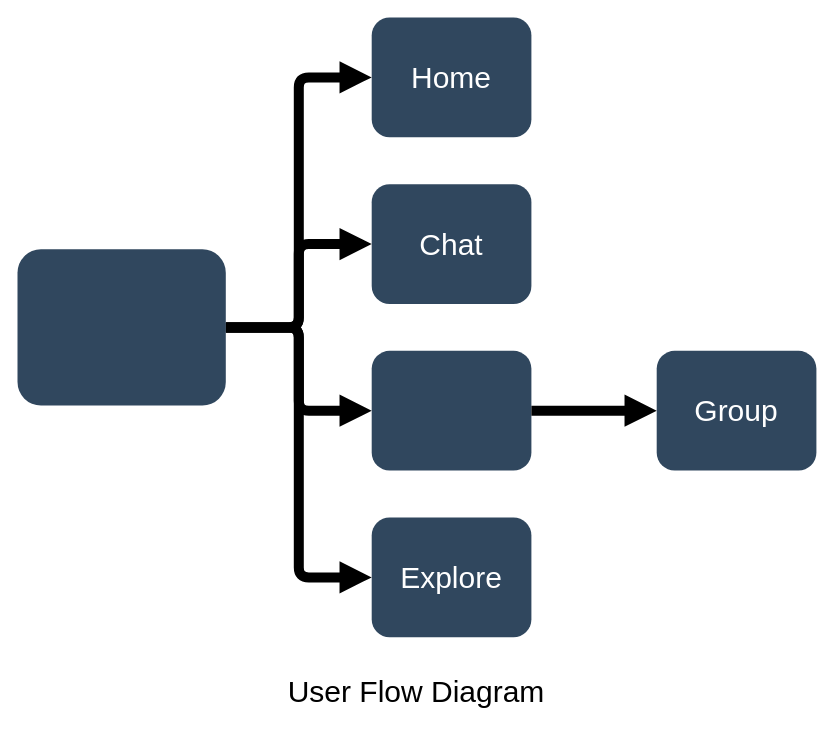
The diagram is 833 pixels wide and 734 high, and some of its shapes have lost their labels. The shapes that lost their labels are listed below. From the top down, each one's box as (x1, y1, x2, y2) in pixels, then its label:
(17, 249, 225, 405): Signin/Signup
(371, 350, 531, 470): Groups
